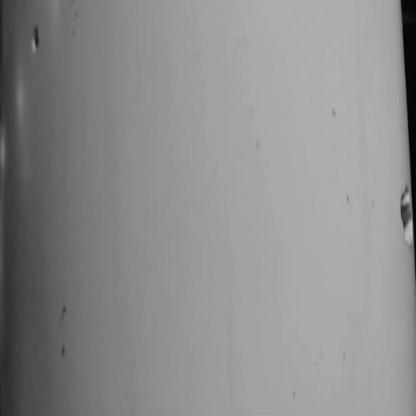kongdong: (390, 176, 416, 251), (28, 21, 53, 54)
